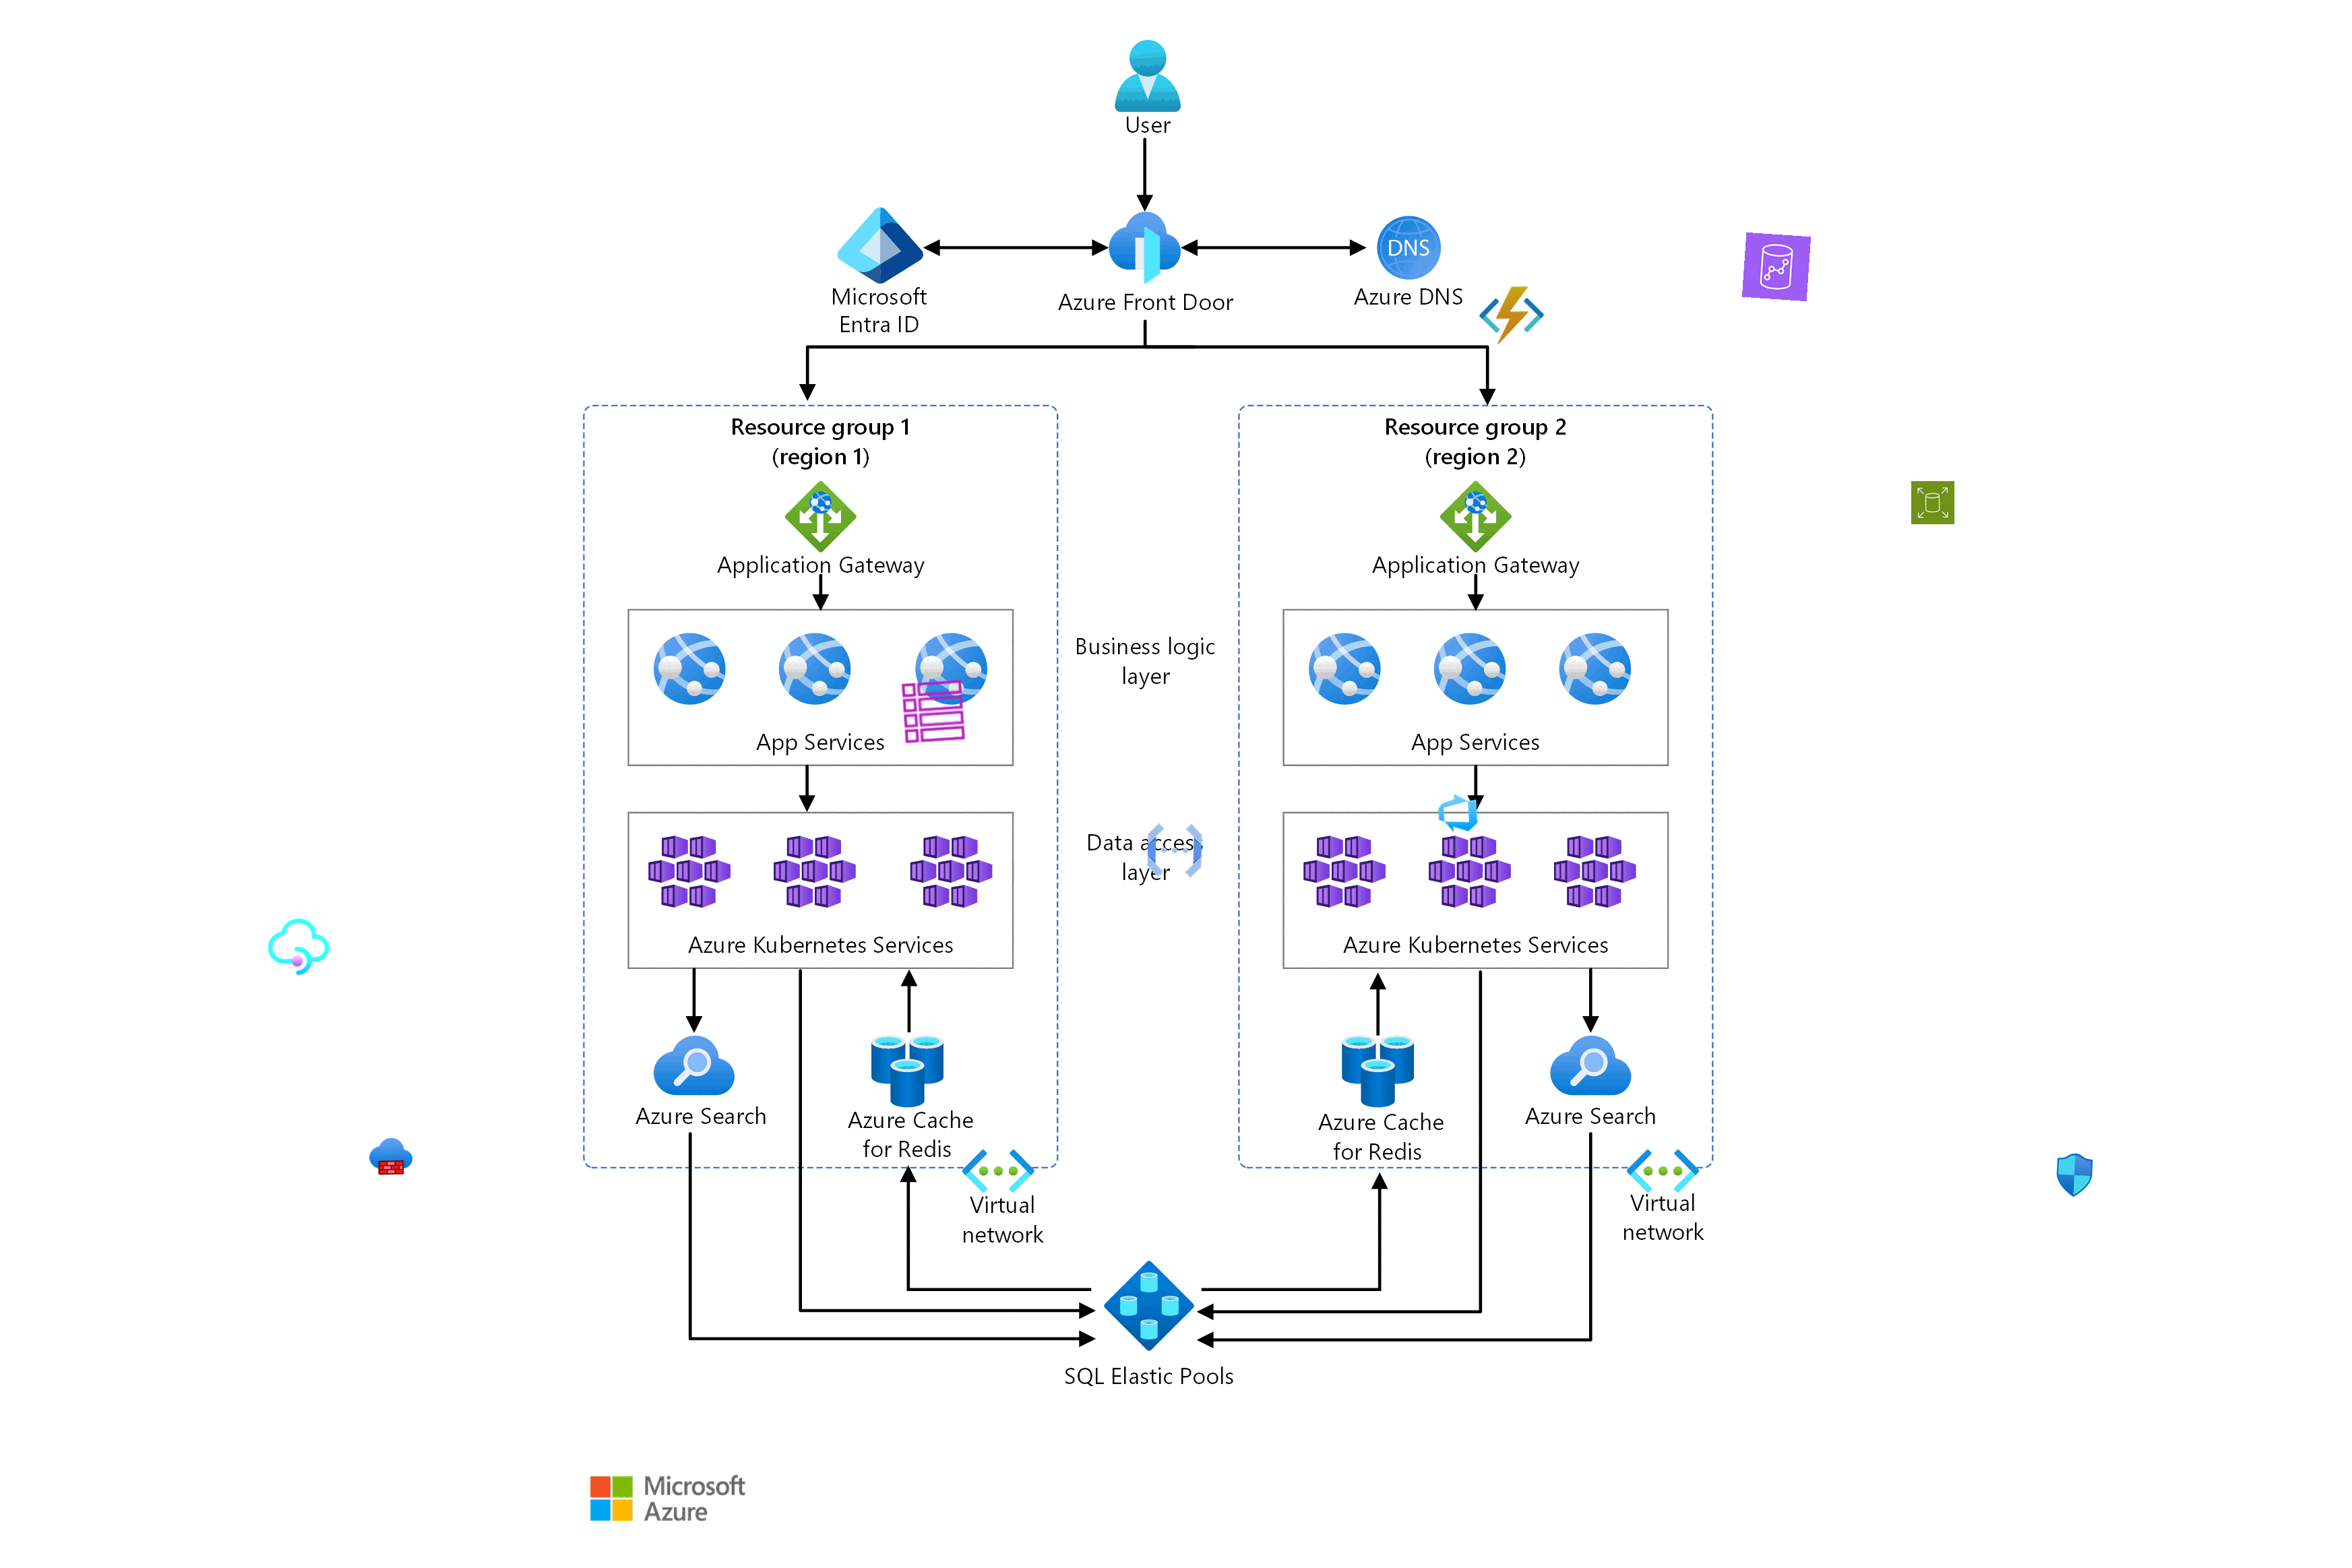aws_amazon_elastic_block_store: (1911, 481, 1955, 525)
aws_amazon_redshift: (1741, 231, 1811, 303)
aws_dynamodb_table: (898, 677, 968, 747)
azure_api_management_services: (264, 912, 334, 982)
azure_devops: (1435, 789, 1480, 835)
azure_firewalls: (369, 1134, 413, 1178)
azure_function_apps: (1479, 282, 1545, 348)
azure_network_security_groups: (2051, 1151, 2096, 1199)
gcp_cloud_functions: (1141, 817, 1207, 884)
